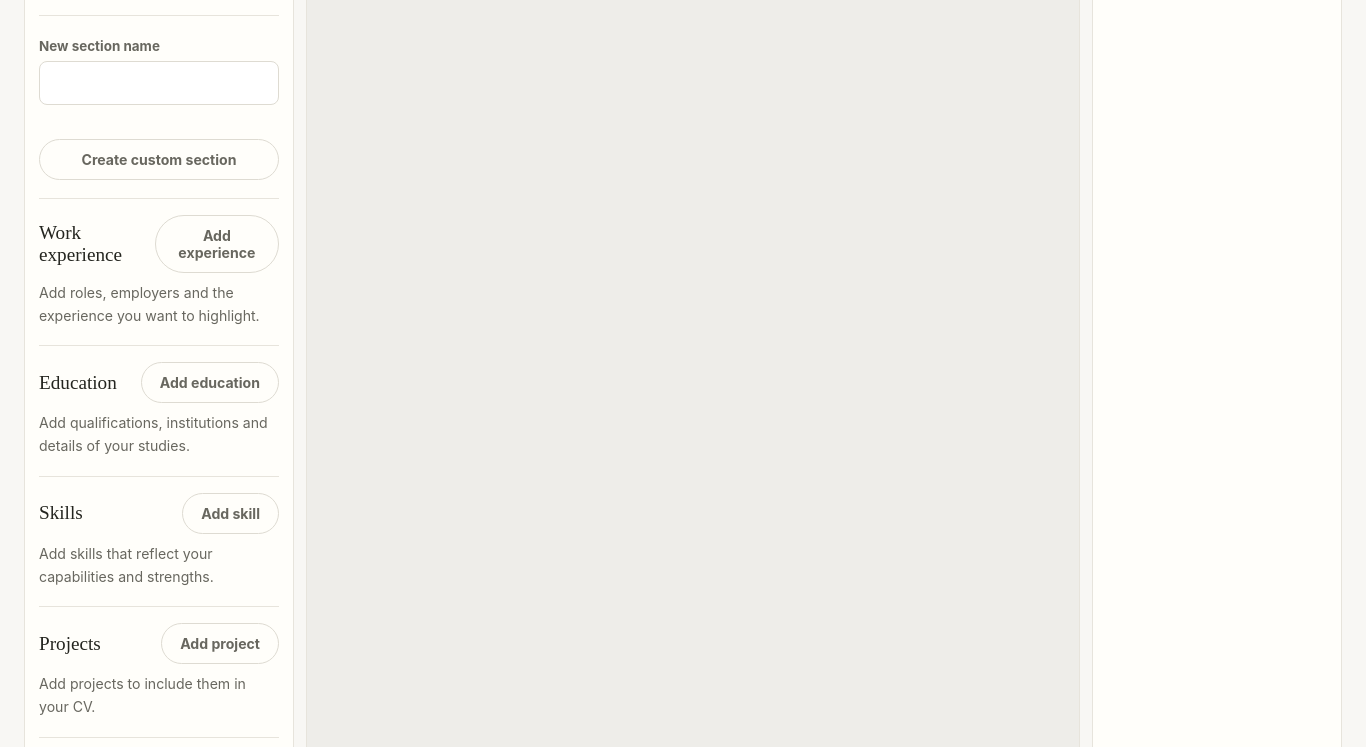
Scenario: education editor › edits without changing identity, removes one entry and reports required errors
Later steps or results of the test are not shown.
(page scrolled)
Click the button "Add education".
click(210, 383)  # box [141,362,279,403]
(page scrolled)
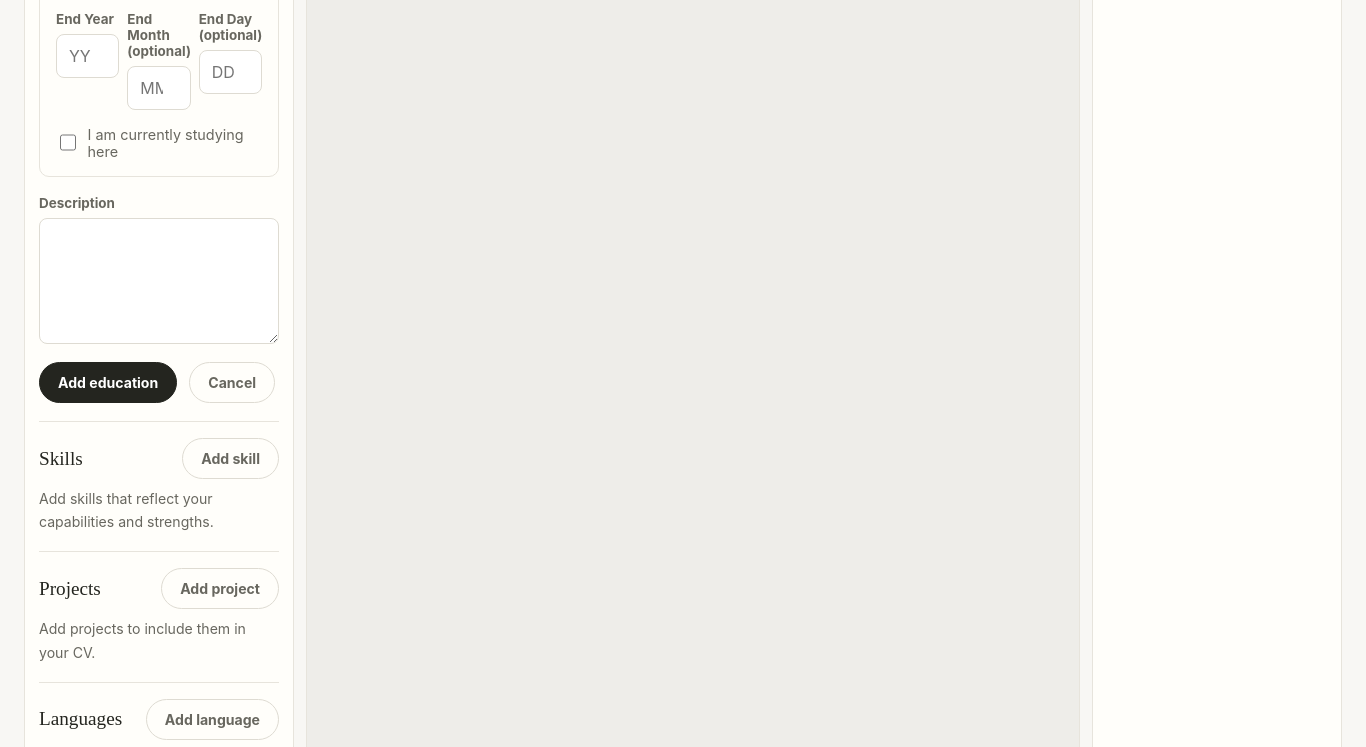
Click the button "Add education".
click(108, 382)  # box [39,362,177,403]
(page scrolled)
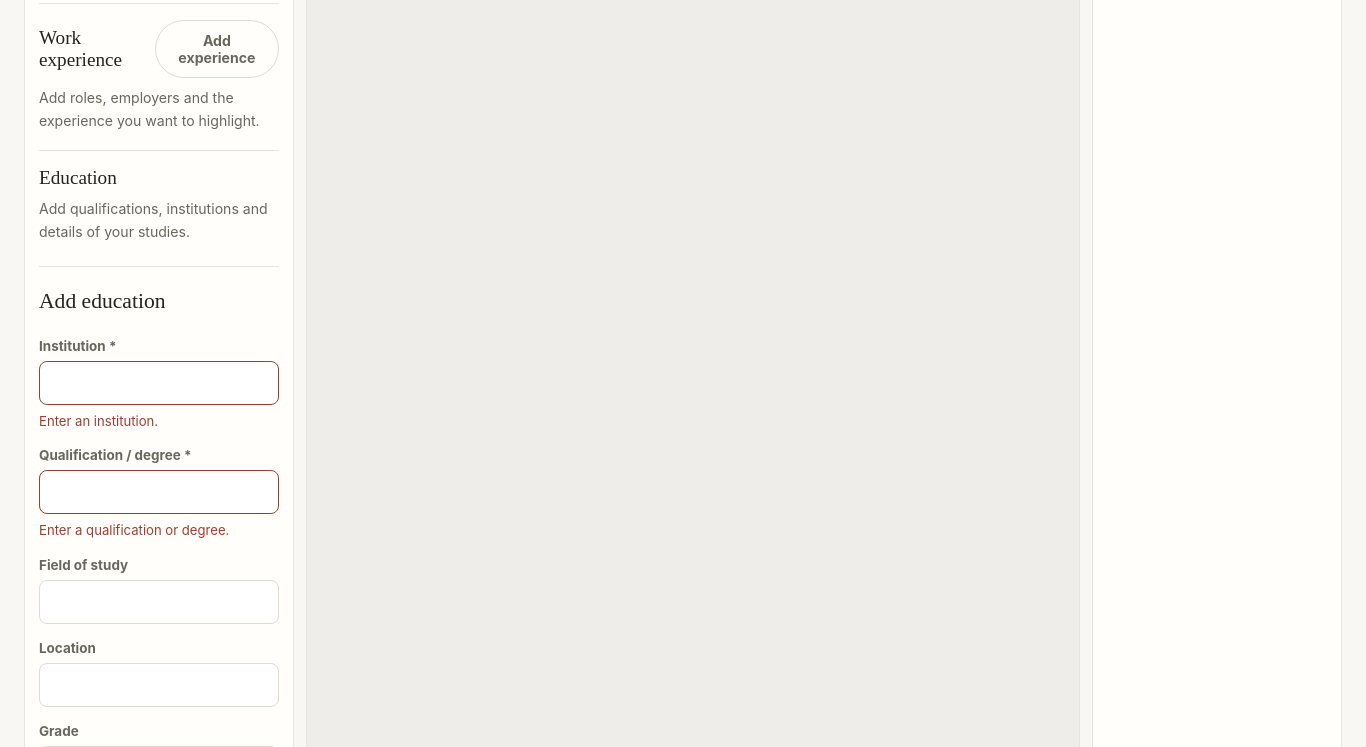
Expected: the number of messages is 2, [39,413,158,429]; [39,522,229,538]
